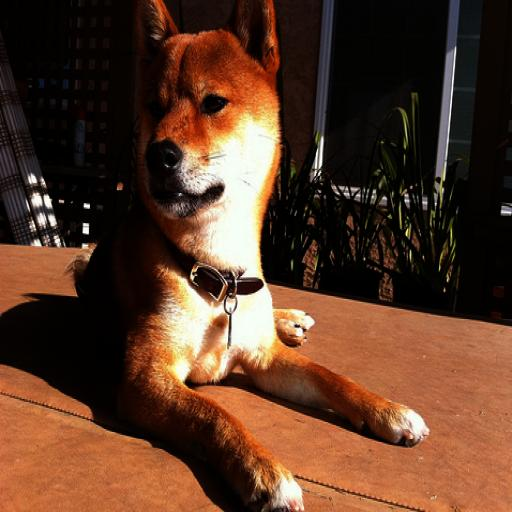dog_face: (132, 0, 286, 195)
